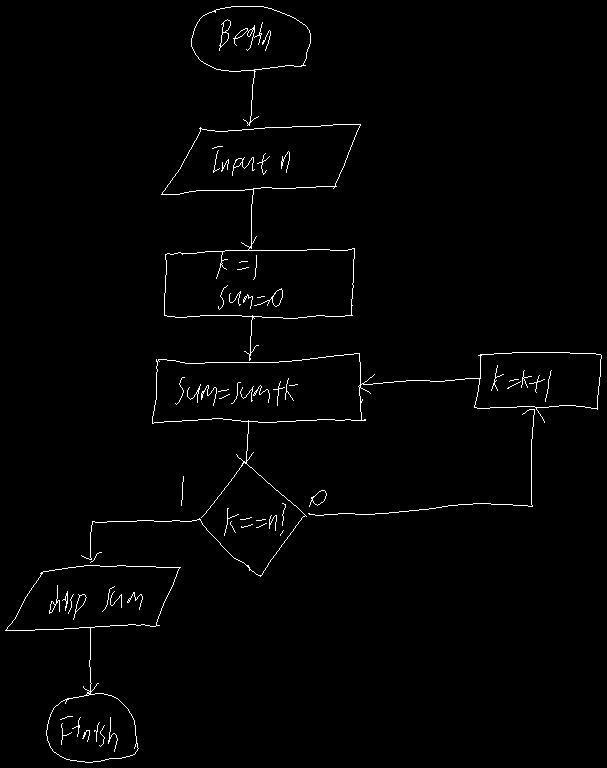arrow: (308, 407, 544, 515), (81, 519, 199, 562), (358, 374, 479, 393), (83, 627, 98, 694), (241, 188, 256, 249), (243, 70, 258, 125), (236, 420, 253, 463), (244, 315, 258, 360)
data: (161, 124, 360, 194), (5, 565, 180, 630)
decision: (199, 461, 306, 576)
process: (152, 353, 365, 423), (164, 248, 354, 318), (474, 352, 601, 409)
terminator: (191, 6, 310, 71), (46, 693, 138, 762)
text: (216, 251, 282, 309), (175, 377, 297, 405), (49, 585, 142, 619), (212, 146, 289, 175), (491, 365, 551, 401), (60, 716, 117, 751), (224, 503, 285, 535), (219, 19, 270, 50), (309, 490, 326, 506), (180, 476, 183, 505)
